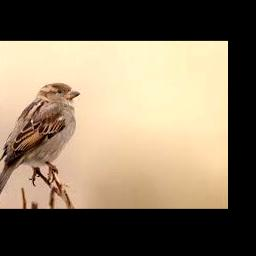Sparrow: (0, 83, 81, 202)
